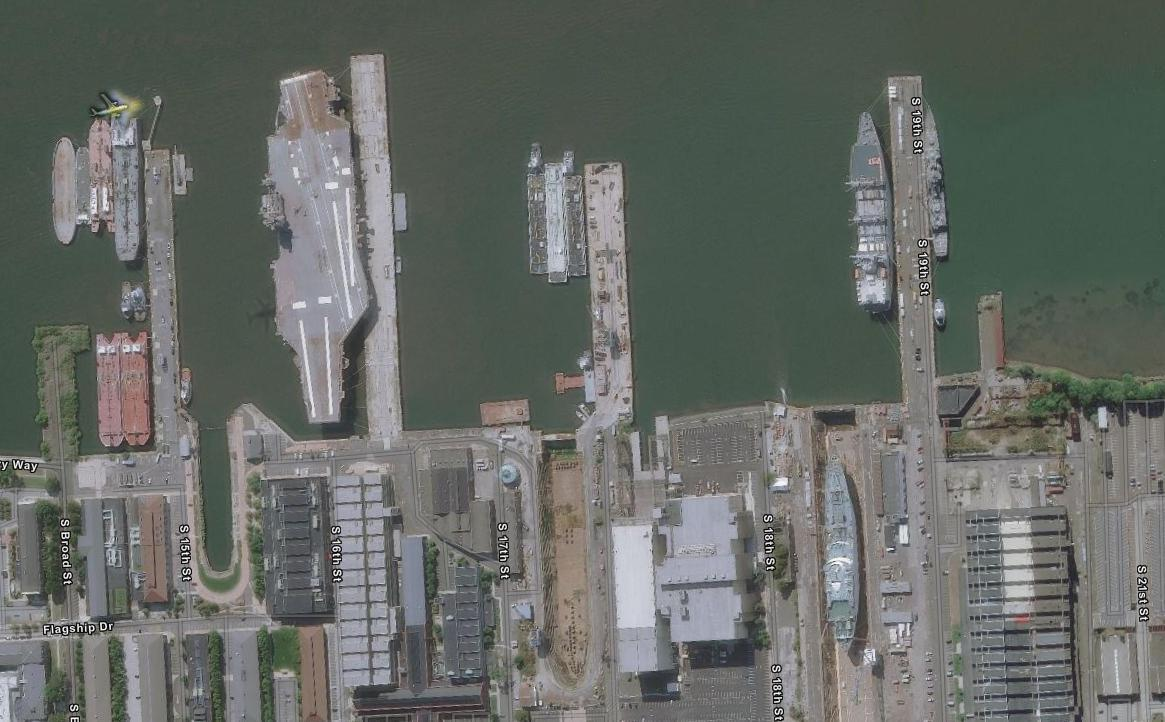carrier: (254, 58, 381, 432)
